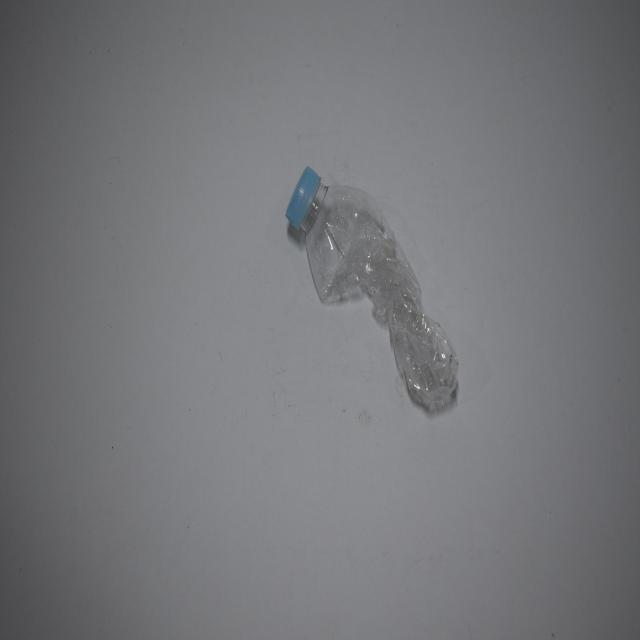bottle: (281, 163, 483, 433)
